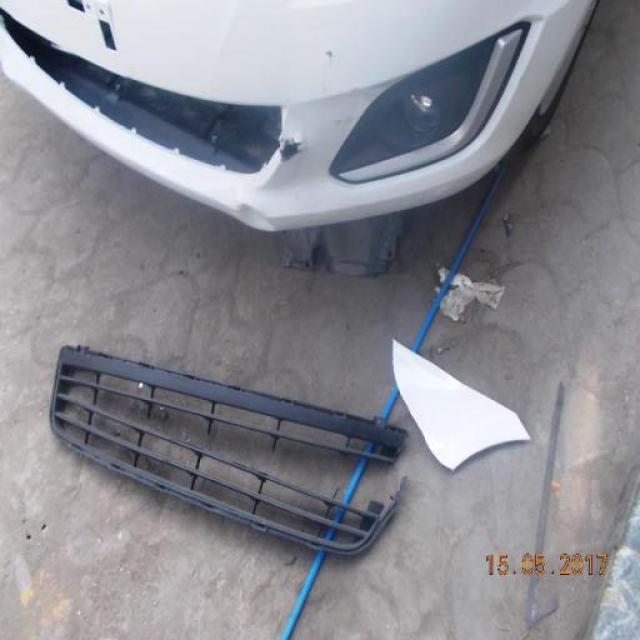dent: (347, 83, 370, 112)
misalignment: (2, 7, 280, 188)
scratch: (320, 48, 337, 101), (279, 136, 307, 165)
